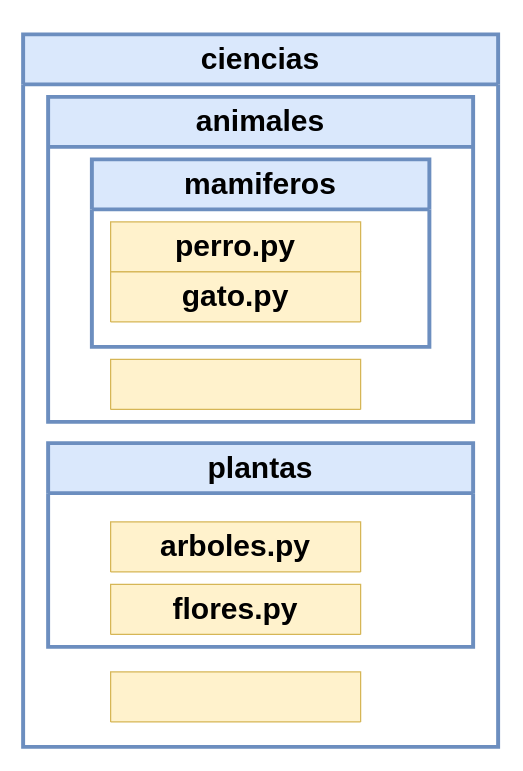
Image size: 523x771. Some labels were removed from this diagram. The centre of each missing label's shape, as x and y in pixels:
aves.py: the point at 235,383
clima.py: the point at 235,696
